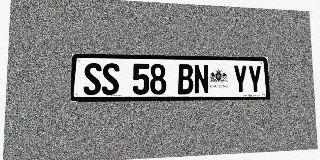5: (133, 63, 149, 95)
8: (150, 64, 166, 94)
B: (177, 64, 193, 94)
N: (193, 64, 209, 94)
S: (83, 63, 101, 95), (102, 63, 119, 95)
Y: (233, 65, 248, 94), (247, 65, 262, 94)
